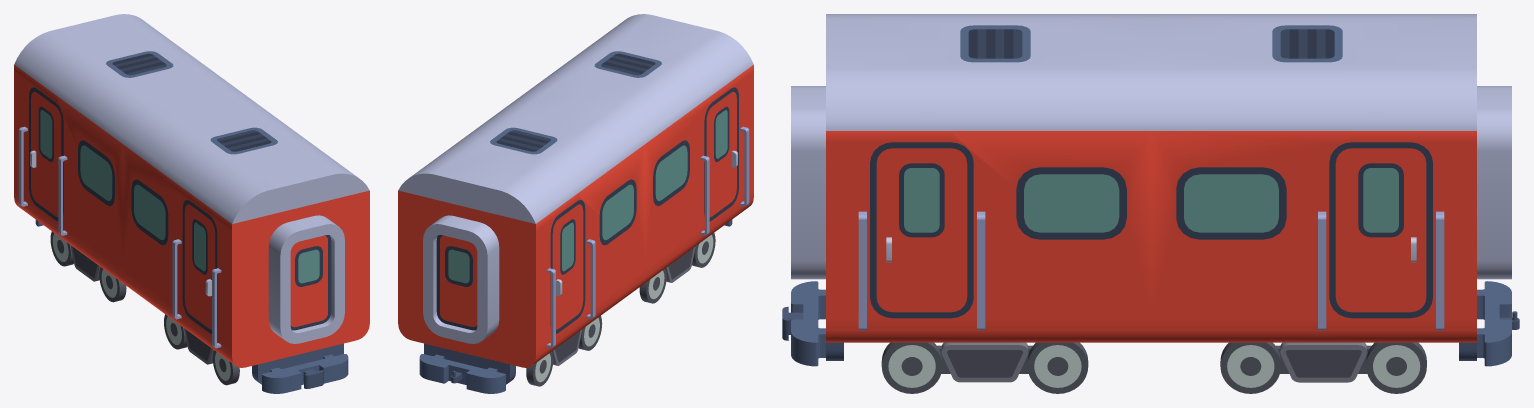
File: Wagon Passenger C.fbx
3 views of the same model, side by side, from view 1: azimuth 30°, elevation 25°; view 2: azimuth 150°, elevation 25°; view 3: azimuth 270°, elevation 25° (orthographic). The views are drawn at different scales.
Visible parts, largest first — view 1: Wagon Passenger C, Wagon Passenger C Door.001, Wagon Passenger C Door.002, Wagon Passenger C Wheel.003, Wagon Passenger C Wheel.004, Wagon Passenger C Wheel.001, Wagon Passenger C Wheel, Wagon Passenger C Wheel.002, Wagon Passenger C Wheel.005; view 2: Wagon Passenger C, Wagon Passenger C Door.002, Wagon Passenger C Door.001, Wagon Passenger C Wheel.005, Wagon Passenger C Wheel.002, Wagon Passenger C Wheel, Wagon Passenger C Wheel.003, Wagon Passenger C Wheel.001, Wagon Passenger C Wheel.004; view 3: Wagon Passenger C, Wagon Passenger C Door.003, Wagon Passenger C Door, Wagon Passenger C Wheel.001, Wagon Passenger C Wheel, Wagon Passenger C Wheel.005, Wagon Passenger C Wheel.002, Wagon Passenger C Wheel.004, Wagon Passenger C Wheel.003.
Boxes of the visible parts, x1,y1,x2,y2 form: Wagon Passenger C: [14, 14, 369, 393]; Wagon Passenger C Door.001: [182, 200, 217, 333]; Wagon Passenger C Door.002: [29, 87, 63, 221]; Wagon Passenger C Wheel.003: [212, 350, 239, 385]; Wagon Passenger C Wheel.004: [99, 267, 126, 302]; Wagon Passenger C Wheel.001: [70, 245, 100, 281]; Wagon Passenger C Wheel: [184, 328, 213, 364]; Wagon Passenger C Wheel.002: [164, 314, 187, 349]; Wagon Passenger C Wheel.005: [50, 231, 73, 266]; Wagon Passenger C: [398, 14, 753, 393]; Wagon Passenger C Door.002: [550, 200, 585, 333]; Wagon Passenger C Door.001: [704, 87, 738, 221]; Wagon Passenger C Wheel.005: [526, 351, 553, 386]; Wagon Passenger C Wheel.002: [639, 268, 666, 303]; Wagon Passenger C Wheel: [665, 247, 695, 282]; Wagon Passenger C Wheel.003: [692, 233, 715, 267]; Wagon Passenger C Wheel.001: [552, 329, 581, 365]; Wagon Passenger C Wheel.004: [578, 316, 602, 350]; Wagon Passenger C: [782, 14, 1519, 366]; Wagon Passenger C Door.003: [1329, 142, 1432, 318]; Wagon Passenger C Door: [870, 142, 973, 318]; Wagon Passenger C Wheel.001: [1276, 342, 1371, 382]; Wagon Passenger C Wheel: [937, 342, 1032, 382]; Wagon Passenger C Wheel.005: [1366, 342, 1426, 393]; Wagon Passenger C Wheel.002: [1027, 342, 1088, 393]; Wagon Passenger C Wheel.004: [1220, 342, 1281, 393]; Wagon Passenger C Wheel.003: [881, 342, 942, 393].
Size of the model in its own units: 3.63 by 4.84 by 10.29.
